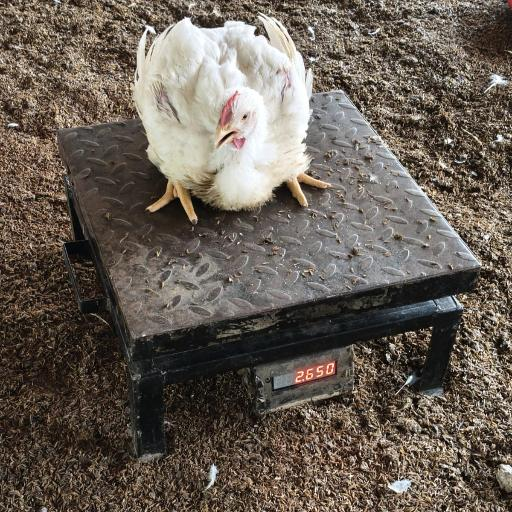chick: (135, 14, 330, 223)
